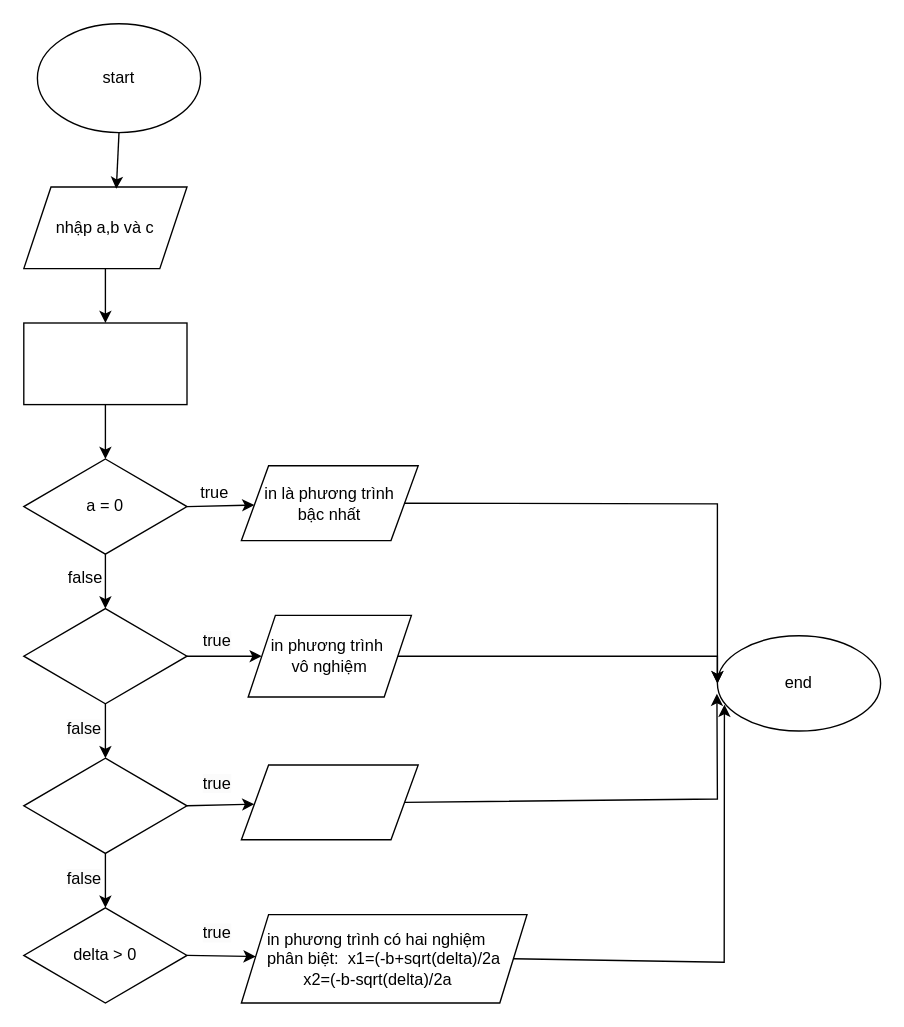
Some shapes in this 904 by 1027 pixel diagram are drawn without their labels. Each missing label, with the centre of its shape:
delta < 0: the point at 104,655
delta = 0: the point at 104,805
delta = b 2 -4ac: the point at 104,363
in phương trình có nghiệm kép x1=x2=-b/2a: the point at 329,802
